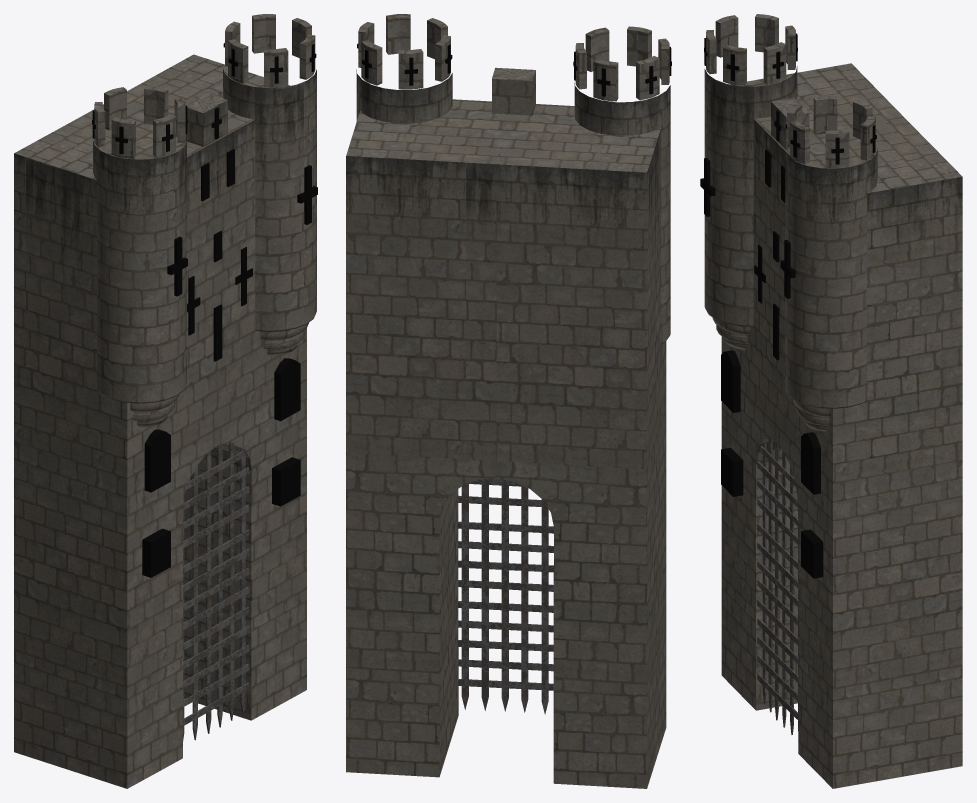
File: Castle_Boundary_Gate_3.glb
The picture shows the model from 3 angles, left to right: view 1: azimuth 30°, elevation 25°; view 2: azimuth 150°, elevation 25°; view 3: azimuth 270°, elevation 25°; orthographic projection. The views are drawn at different scales.
Visible parts, largest first — view 1: Castle_Boundary_Gate_3; view 2: Castle_Boundary_Gate_3; view 3: Castle_Boundary_Gate_3.
Part boxes in pixels (x1,y1,x2,y2): Castle_Boundary_Gate_3: (14,14,317,788); Castle_Boundary_Gate_3: (346,14,671,788); Castle_Boundary_Gate_3: (700,14,962,788).
Bounding box in the file's own units: 11.27 × 24.98 × 9.05.
3 materials, 2 textured.
